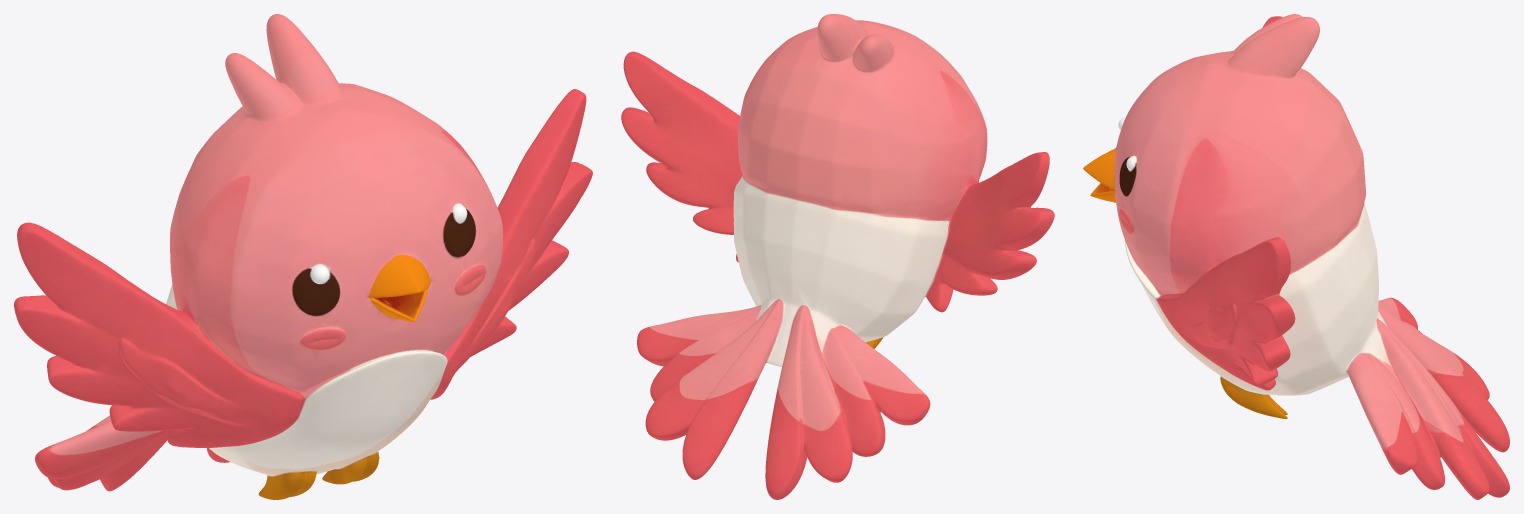
The model's file is Uccellino.glb.
3 renders of one model, left to right at view 1: azimuth 30°, elevation 25°; view 2: azimuth 150°, elevation 25°; view 3: azimuth 270°, elevation 25°, orthographic. The views are drawn at different scales.
Size of the model in its own units: 1.9 by 1.73 by 1.47.
Materials: 1 (1 with a texture image).
